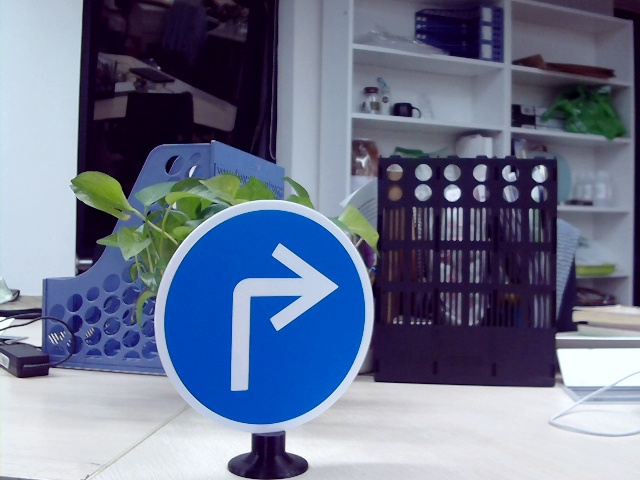turn_right: (208, 233, 338, 391)
